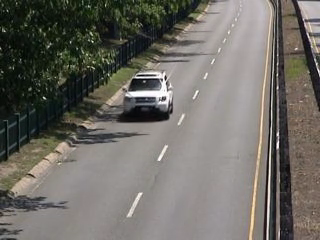car: (117, 67, 178, 122)
